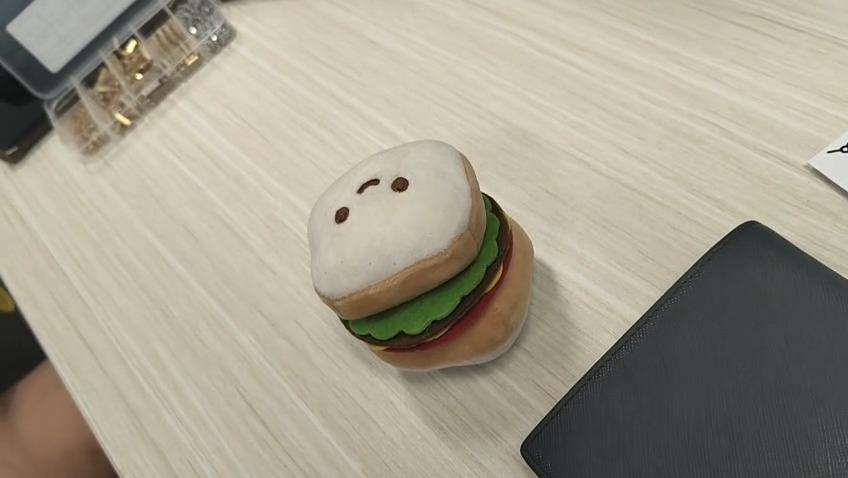objects: (300, 133, 533, 373)
